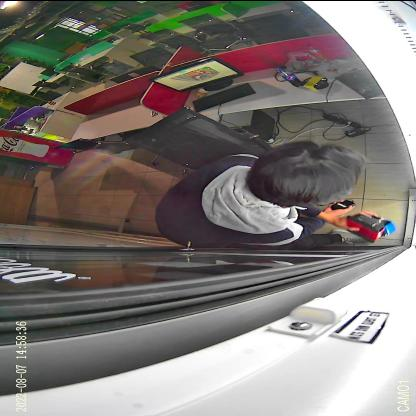blue: (380, 218, 396, 236)
red: (347, 212, 384, 242)
